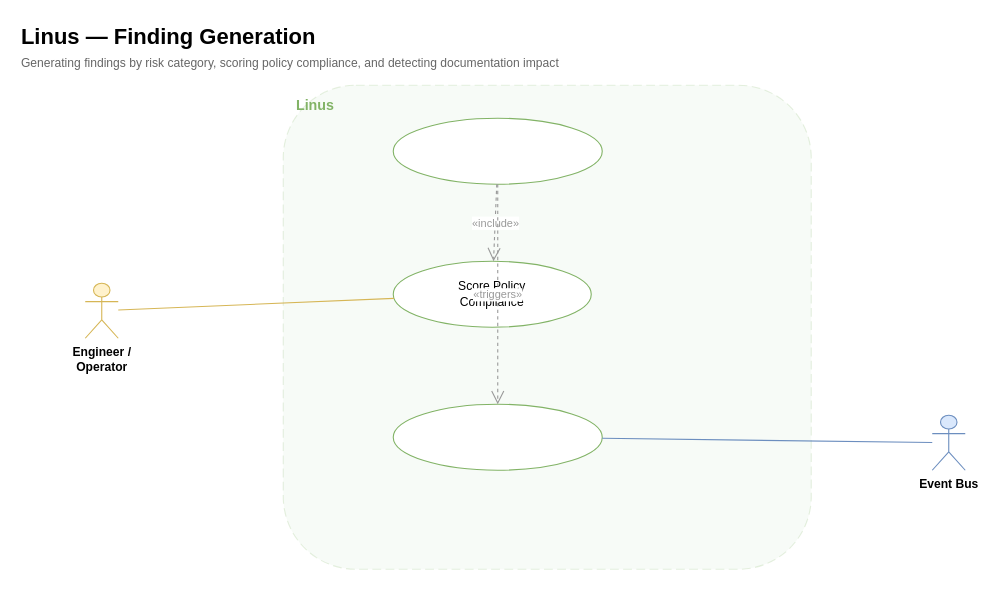
Some shapes in this 997 by 589 pixel diagram are drawn without their labels. The centre of each missing label's shape, as x and y in pixels:
Detect Documentation Impact: pixel 497 436
Generate Findings by Risk Category: pixel 497 150
